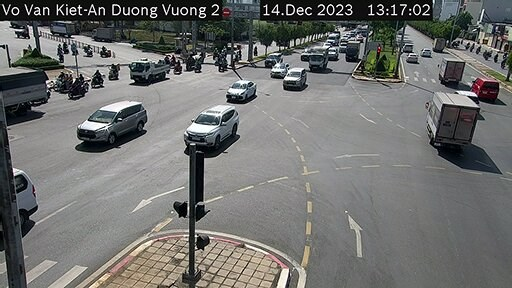car: (76, 99, 149, 147), (189, 106, 240, 148), (231, 75, 257, 103), (478, 76, 502, 105), (285, 66, 305, 92), (454, 87, 480, 105), (266, 50, 283, 69), (268, 62, 288, 78), (422, 46, 433, 57), (407, 54, 418, 62)
motorbike: (2, 159, 37, 233)
truck: (428, 88, 475, 147), (1, 67, 52, 117), (128, 57, 173, 87), (439, 58, 464, 82), (309, 45, 328, 73), (346, 41, 362, 63), (433, 37, 447, 53), (328, 31, 339, 44)
